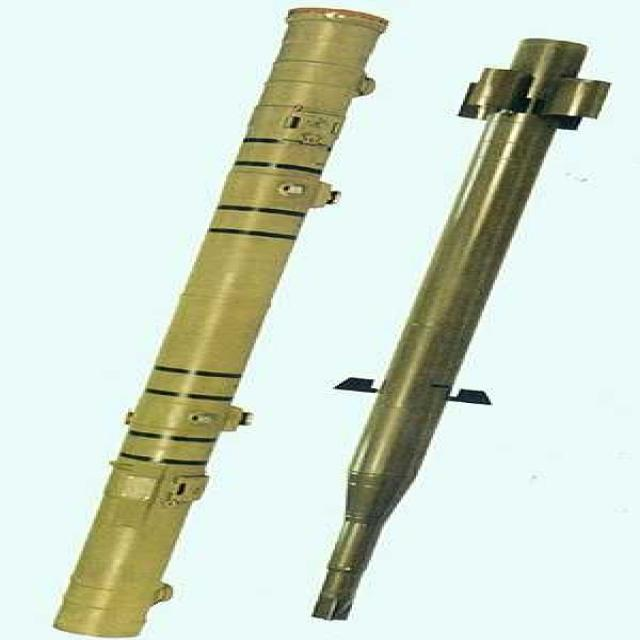missile: (293, 32, 600, 625)
